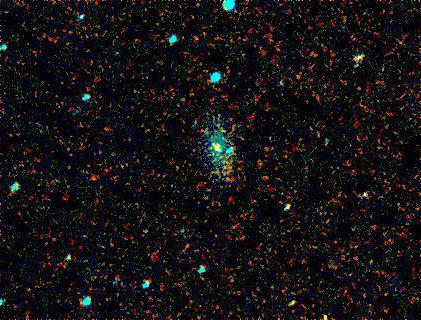star: (199, 133, 229, 163)
